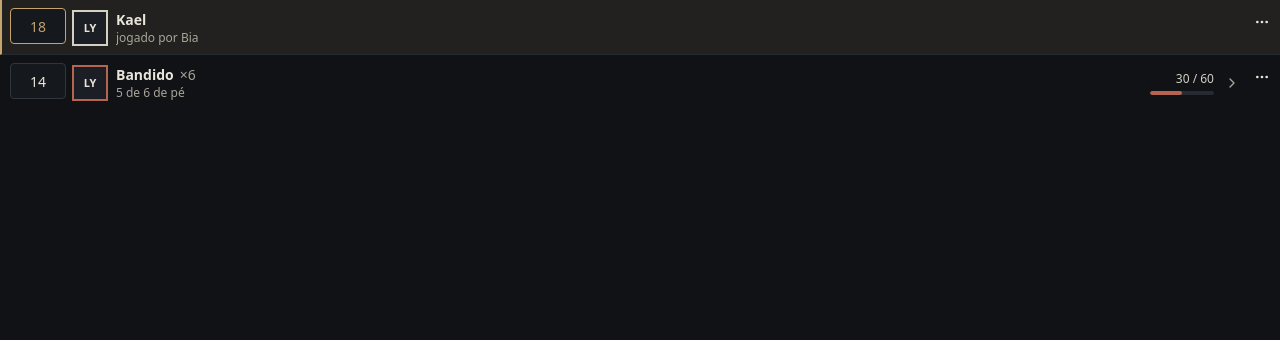
Test: CombatantList › a group that folds › opening it lists each bandit with its bar
The image size is (1280, 340).
Click the button named "Bandido×6": point(90, 83) 74,65 -> 1240,101
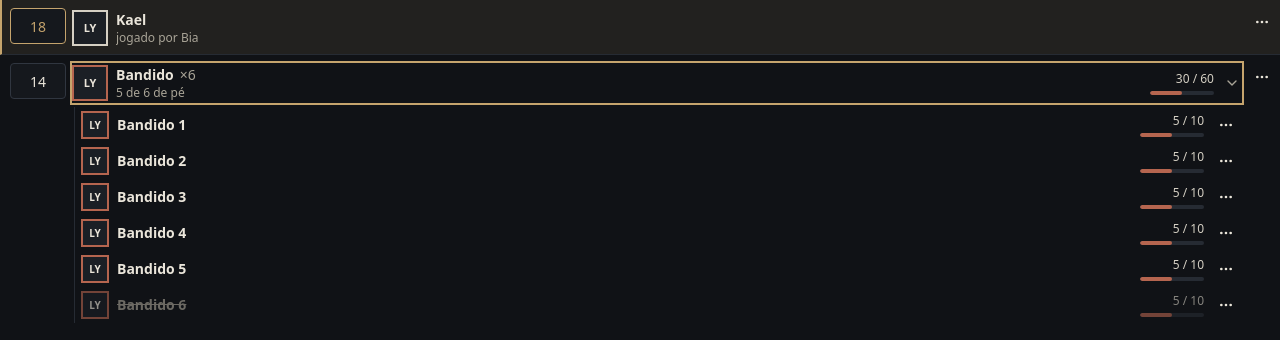
Check: the element named "PV de Bandido 1" is shown, box 1140,113 -> 1204,137
